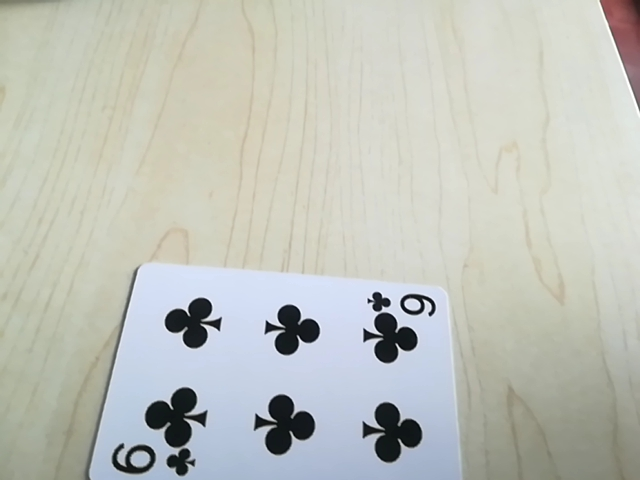mh 6: (109, 443, 197, 478), (366, 289, 441, 321)
